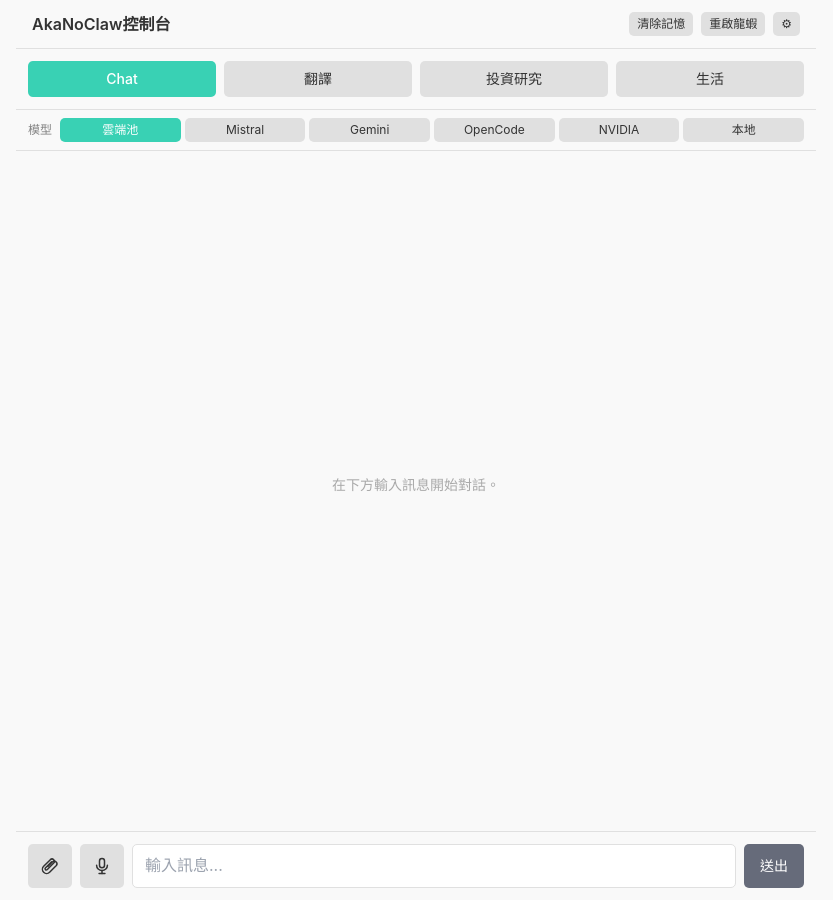
Scenario: App — voice input › shows a transcription error without entering the NLP pipeline
The width and height of the screenshot is (833, 900).
Click the button named "開始語音輸入": (102, 866) [80,844,124,888]
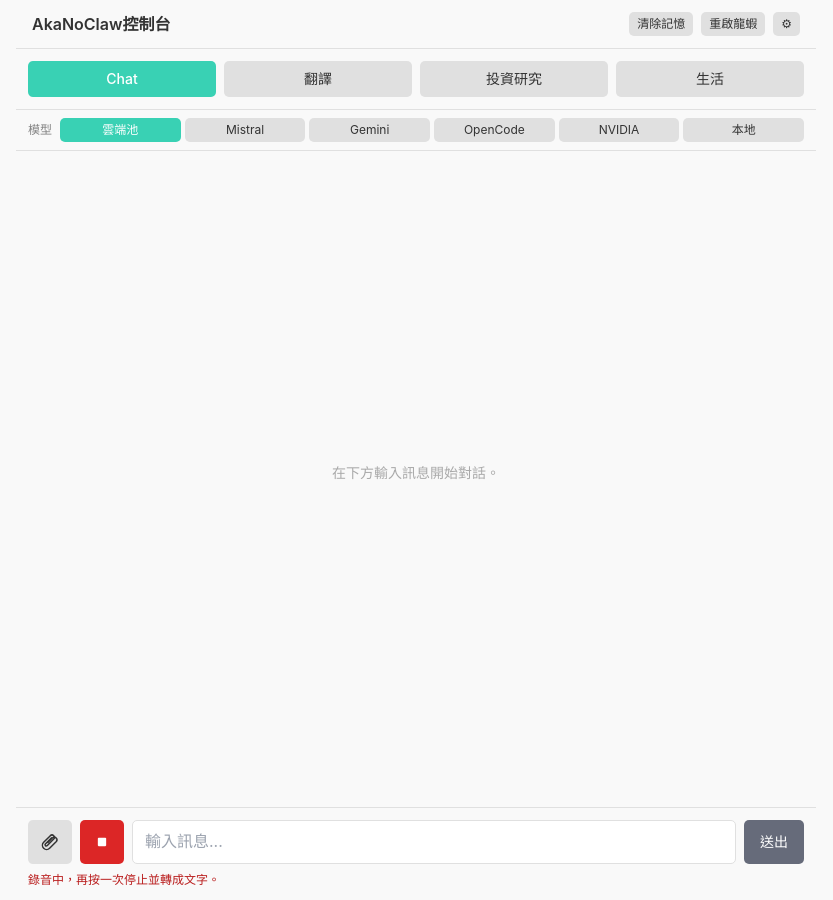
Click the button named "停止錄音": (102, 842) [80,820,124,864]
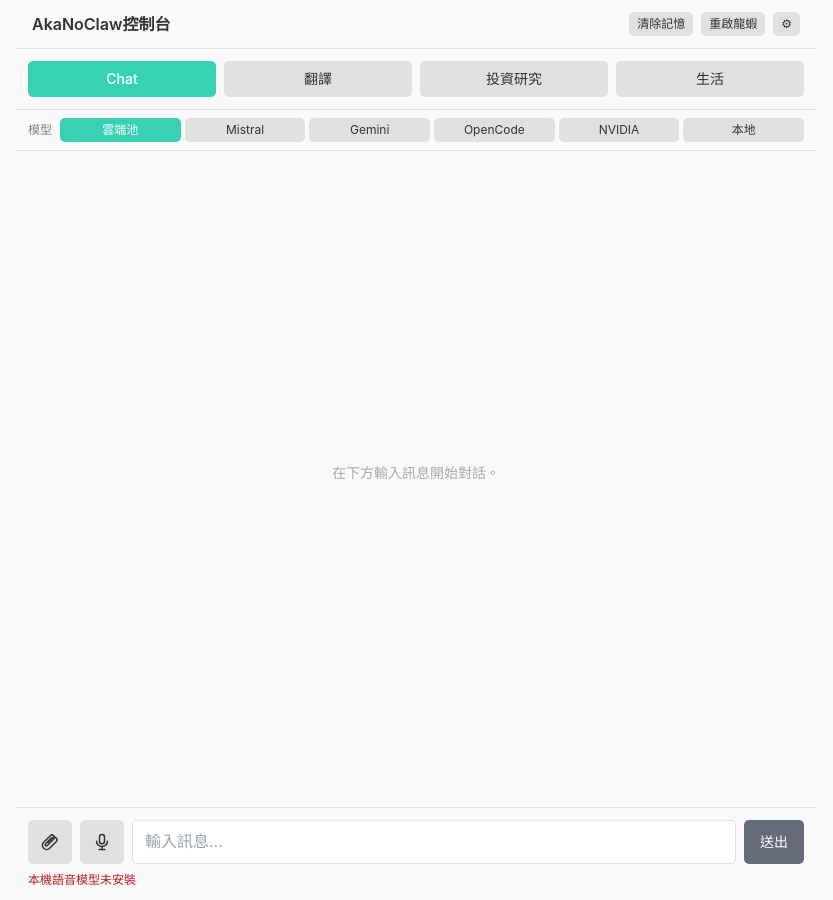
expect the message reads "本機語音模型未安裝": met, box [28,872,136,887]
